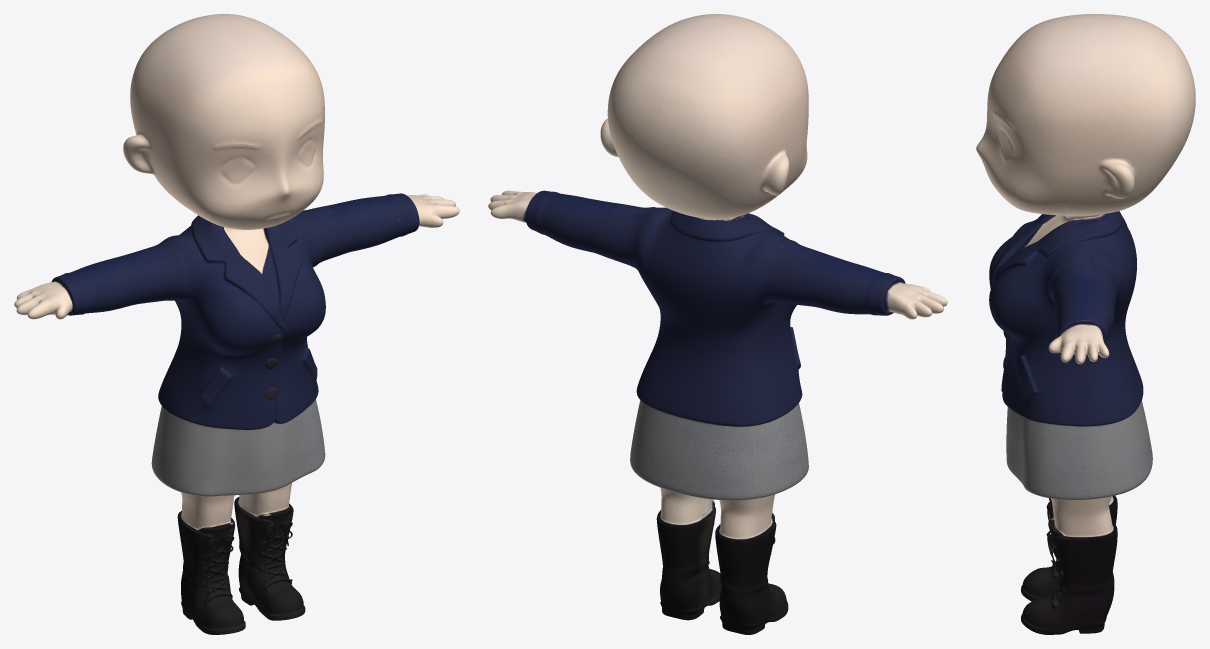
File: baked_outfit_peacoat.glb
3 renders of one model, left to right at view 1: azimuth 30°, elevation 25°; view 2: azimuth 150°, elevation 25°; view 3: azimuth 270°, elevation 25°, orthographic. The views are drawn at different scales.
Bounding box in the file's own units: 1.52 × 1.9 × 0.6445.
1 material, 1 textured.
